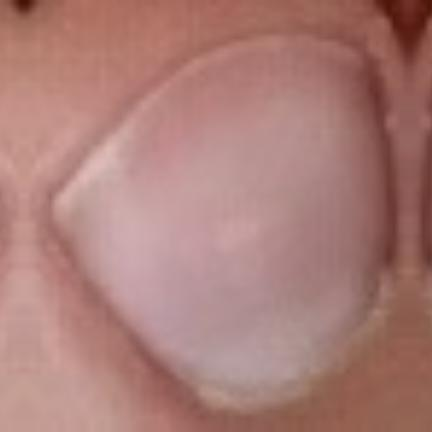Nail: (47, 32, 391, 385), (426, 146, 432, 290)
